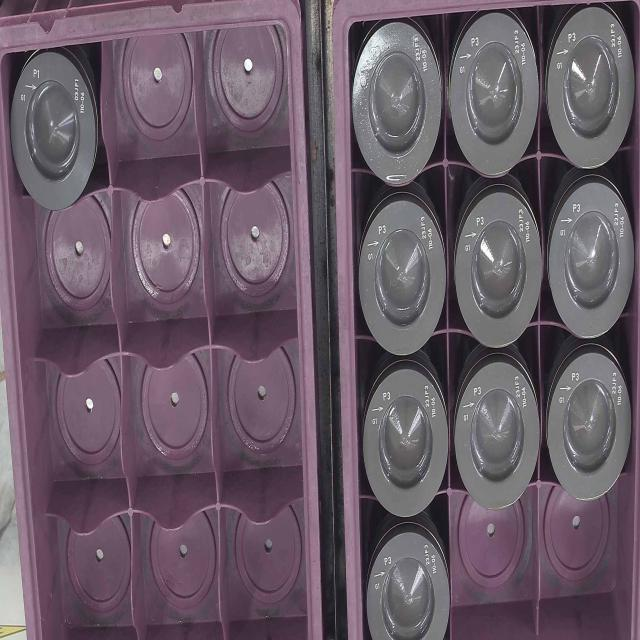P1: (10, 55, 98, 208)
P3: (350, 22, 442, 189), (354, 200, 445, 361), (453, 192, 543, 354), (544, 12, 635, 170), (447, 22, 538, 176), (452, 361, 540, 519), (549, 180, 634, 342), (360, 368, 448, 520), (546, 358, 635, 505), (365, 527, 450, 640)
